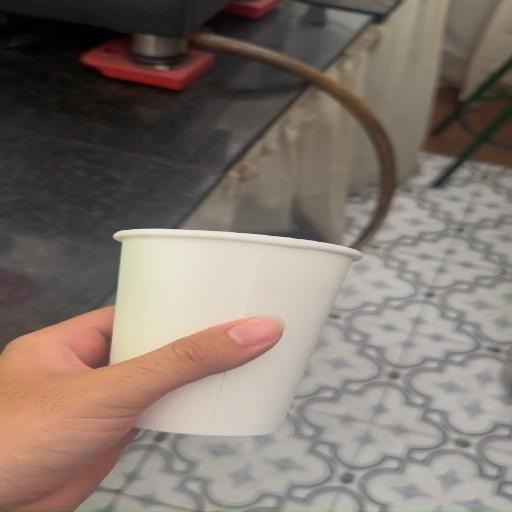ly_giay: (110, 229, 361, 434)
